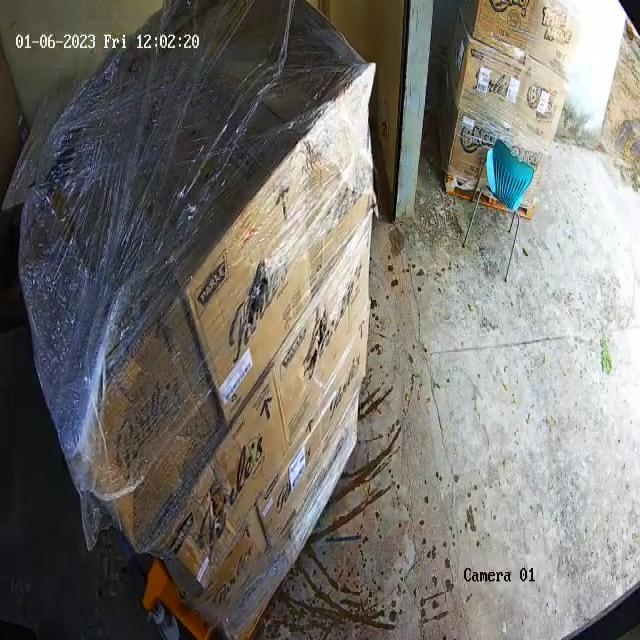leakage: (233, 273, 286, 348), (199, 479, 228, 585), (291, 313, 333, 381)
squeeze: (70, 337, 171, 497), (301, 67, 377, 205)
